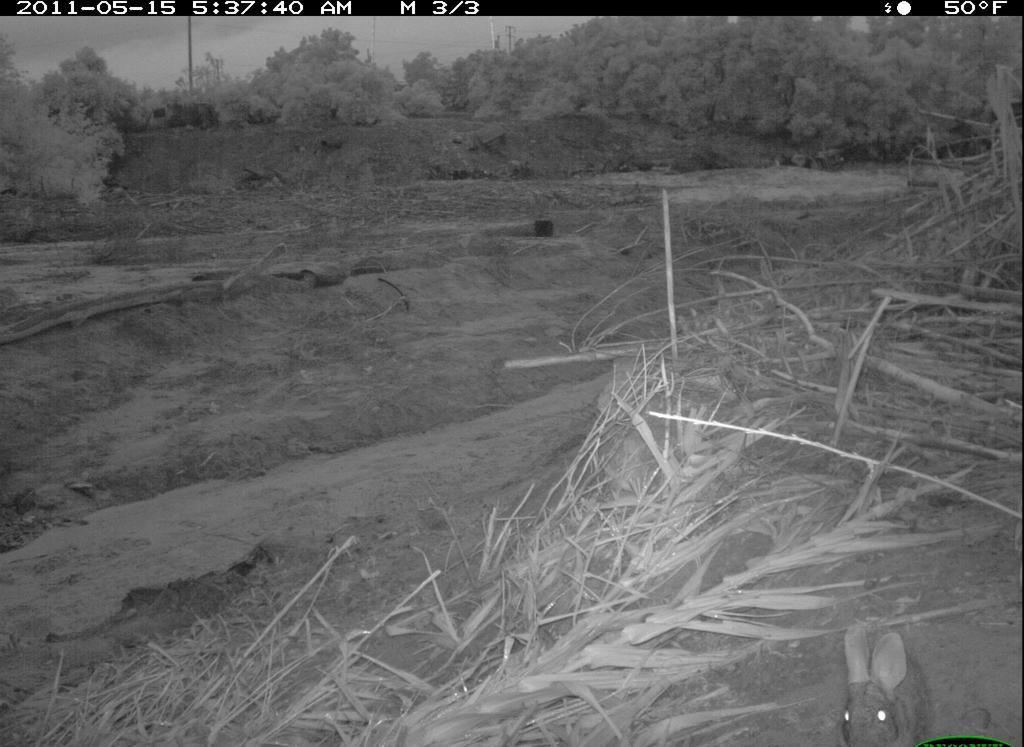rabbit: (830, 617, 937, 747)
